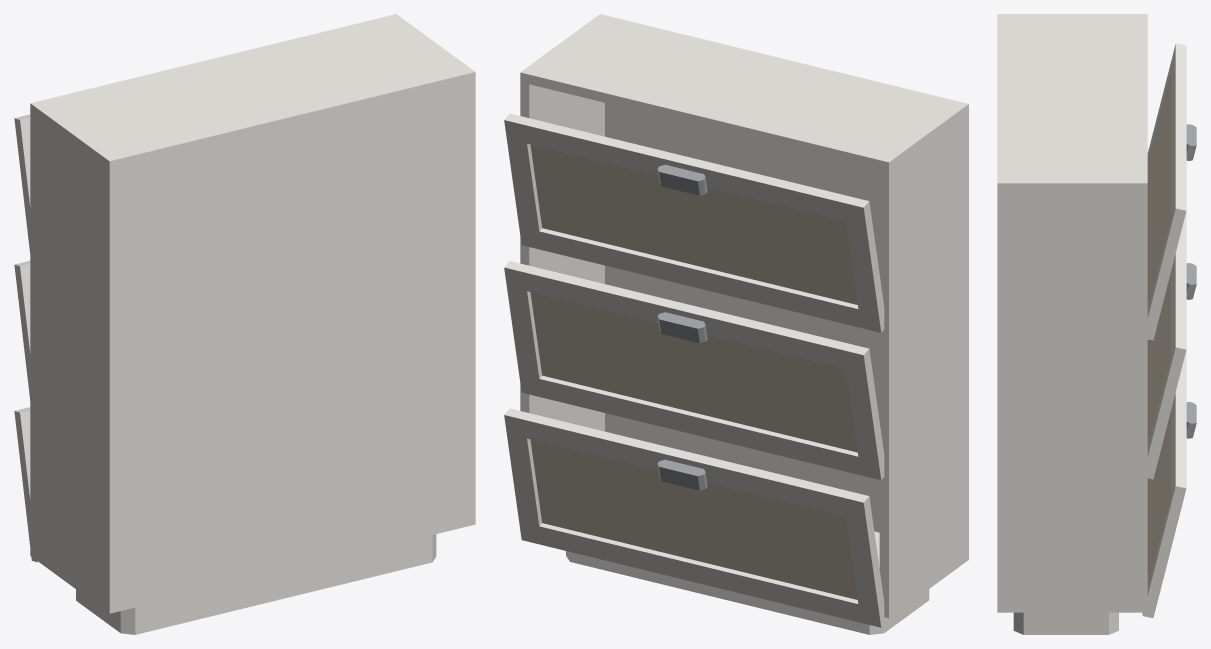
File: SM_LPI_Storage_ShoeCabinet_01.fbx
3 views of the same model, side by side, from view 1: azimuth 30°, elevation 25°; view 2: azimuth 150°, elevation 25°; view 3: azimuth 270°, elevation 25° (orthographic). The views are drawn at different scales.
Visible parts, largest first — view 1: SM_LPI_Storage_ShoeCabinet_01; view 2: SM_LPI_Storage_ShoeCabinet_01; view 3: SM_LPI_Storage_ShoeCabinet_01.
Boxes of the visible parts, x1=… form: SM_LPI_Storage_ShoeCabinet_01: x1=14, y1=14, x2=475, y2=634; SM_LPI_Storage_ShoeCabinet_01: x1=504, y1=14, x2=968, y2=634; SM_LPI_Storage_ShoeCabinet_01: x1=997, y1=14, x2=1196, y2=634.
Bounding box in the file's own units: 0.8 × 1.02 × 0.3983.
